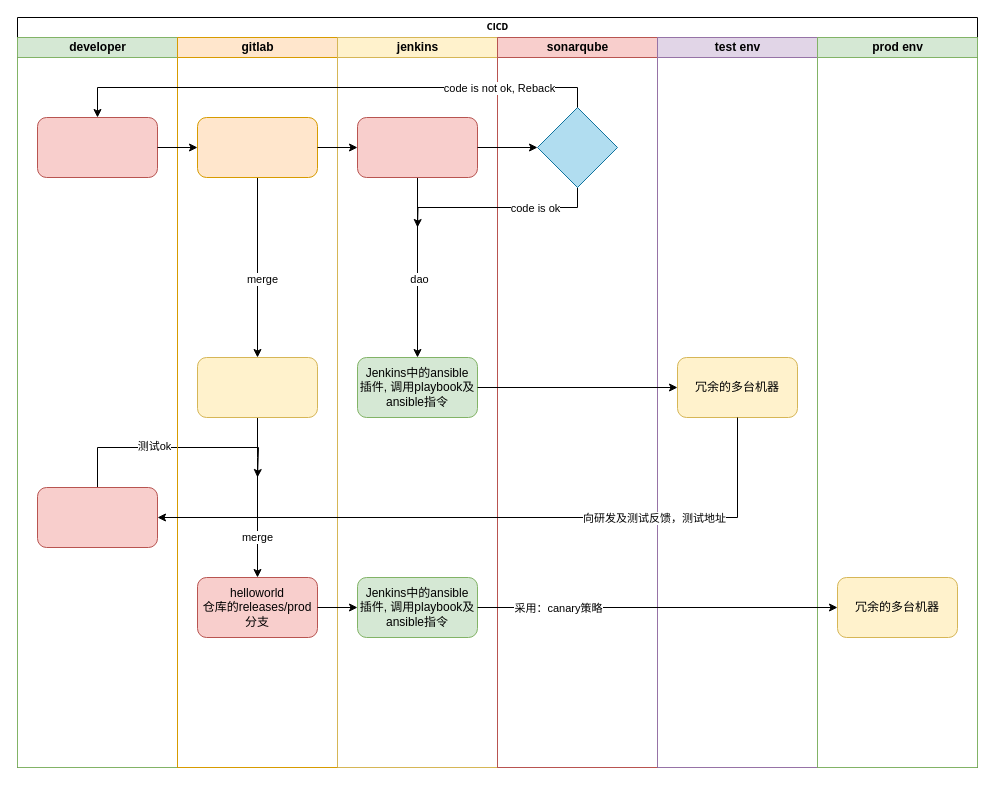
The diagram is 995 pixels wide and 785 high, and some of its shapes have lost their labels. Each missing label, with the centre of its shape:
codes: pixel 97 147
helloworld 仓库的feature分支: pixel 257 147
helloworld 仓库的releases/test 分支: pixel 257 387
scan codes: pixel 577 147
多分支流水线 检测到feature提交 调用sonar-scan插件: pixel 417 147
研发及测试人员接收发布后的消息反馈进行自测: pixel 97 517
